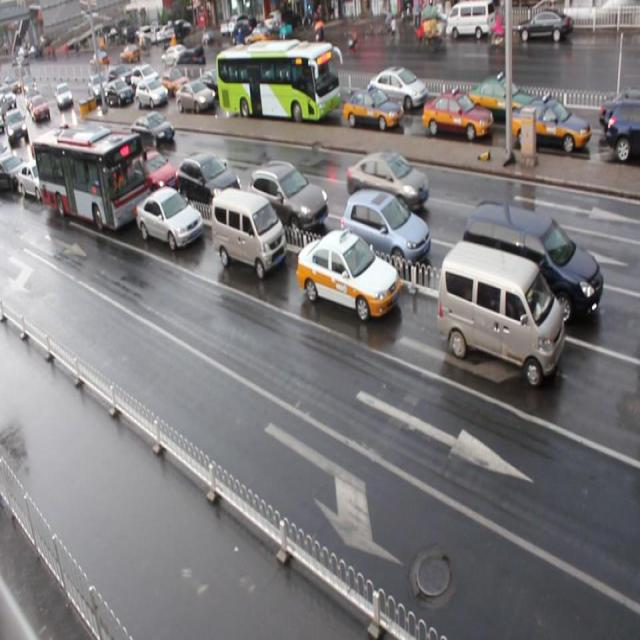car: (298, 228, 402, 322), (341, 191, 432, 275), (249, 161, 330, 234), (346, 150, 429, 211), (512, 98, 591, 156), (137, 186, 204, 250), (178, 151, 244, 212), (463, 74, 542, 124), (424, 92, 494, 140), (344, 84, 404, 133), (366, 66, 427, 111), (136, 146, 180, 194), (606, 97, 640, 159), (596, 91, 640, 135), (20, 158, 58, 202), (132, 109, 176, 147), (295, 66, 337, 102), (84, 133, 122, 172), (175, 82, 216, 116), (1, 152, 29, 194), (198, 70, 233, 103), (29, 129, 56, 167), (136, 78, 168, 108), (129, 64, 160, 92), (106, 78, 134, 106), (161, 70, 188, 94)
truck: (438, 240, 563, 388), (463, 197, 604, 328), (212, 188, 288, 278)
van: (35, 125, 154, 234), (216, 44, 340, 123)
